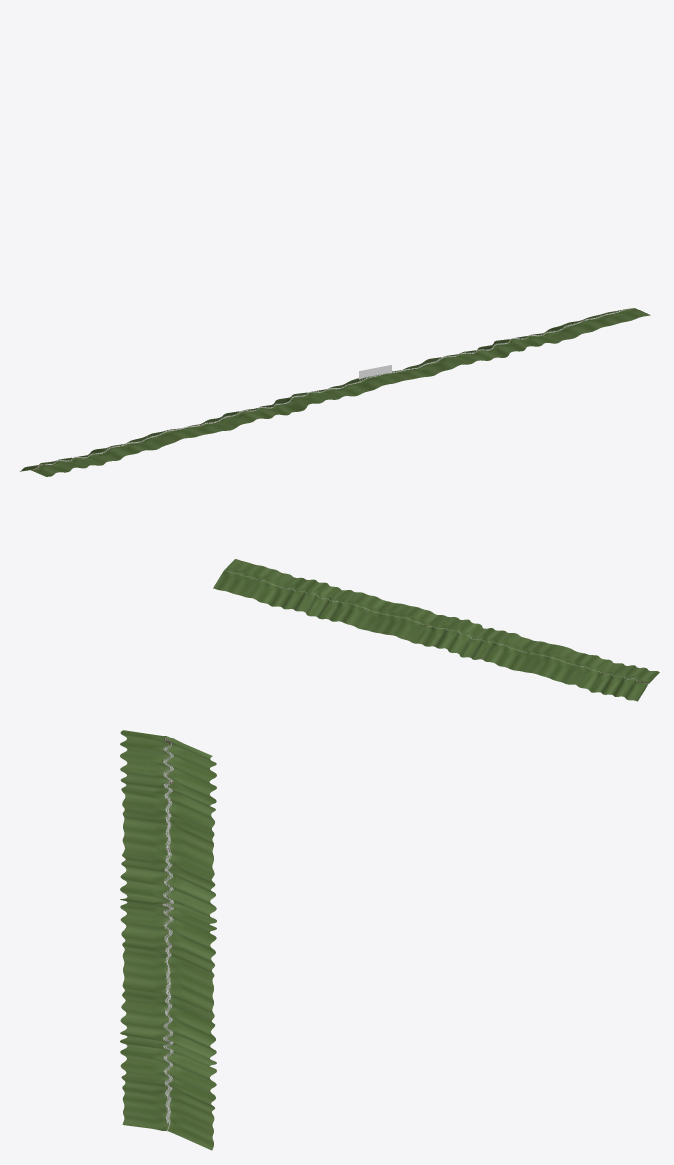
File: murdehuy.glb
3 renders of one model, top to bottom at view 1: azimuth 30°, elevation 25°; view 2: azimuth 150°, elevation 25°; view 3: azimuth 270°, elevation 25°, orthographic. The views are drawn at different scales.
Parts seen in each view (by area): view 1: Land_005, Land_010, Land_002, Land_009, Land_006, Land_001, Land_011, Land_004, Land_007, Land_000, Land_003, Land_008; view 2: Land_002, Land_006, Land_007, Land_011, Land_003, Land_004, Land_010, Land_008, Land_009, Land_000, Land_001, Land_005; view 3: Land_007, Land_008, Land_004, Land_003, Land_011, Land_002, Land_006, Land_000, Land_010, Land_001, Land_009, Land_005.
Part boxes in pixels (box(x1,y1,x2,y2)): Land_005: box(273, 389, 345, 412); Land_010: box(529, 320, 601, 343); Land_002: box(107, 429, 196, 450); Land_009: box(477, 336, 545, 357); Land_006: box(314, 375, 399, 396); Land_001: box(75, 444, 144, 465); Land_011: box(564, 308, 650, 327); Land_004: box(220, 404, 292, 424); Land_007: box(376, 362, 450, 381); Land_000: box(20, 457, 90, 476); Land_003: box(164, 416, 241, 436); Land_008: box(420, 350, 494, 369); Land_002: box(533, 644, 588, 684); Land_006: box(393, 606, 447, 646); Land_007: box(353, 597, 410, 635); Land_011: box(213, 559, 268, 597); Land_003: box(494, 636, 553, 673); Land_004: box(458, 628, 520, 662); Land_010: box(252, 568, 306, 607); Land_008: box(316, 590, 375, 625); Land_009: box(283, 579, 342, 616); Land_000: box(602, 665, 659, 701); Land_001: box(574, 655, 625, 692); Land_005: box(431, 617, 483, 653); Land_007: box(122, 961, 214, 1020); Land_008: box(120, 994, 216, 1058); Land_004: box(120, 860, 216, 924); Land_003: box(122, 829, 215, 889); Land_011: box(122, 1093, 214, 1150); Land_002: box(122, 797, 214, 851); Land_006: box(121, 927, 215, 981); Land_000: box(120, 730, 216, 790); Land_010: box(120, 1059, 215, 1113); Land_001: box(120, 763, 216, 814); Land_009: box(120, 1027, 216, 1087); Land_005: box(120, 896, 216, 947).
Size of the model in its own units: 13597 by 3104 by 4742.
